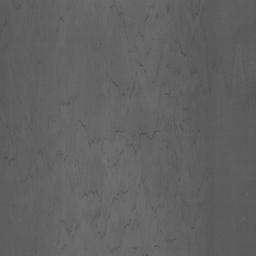Silk spot: (58, 0, 256, 256), (0, 96, 79, 183), (12, 0, 38, 10), (0, 16, 8, 46)
